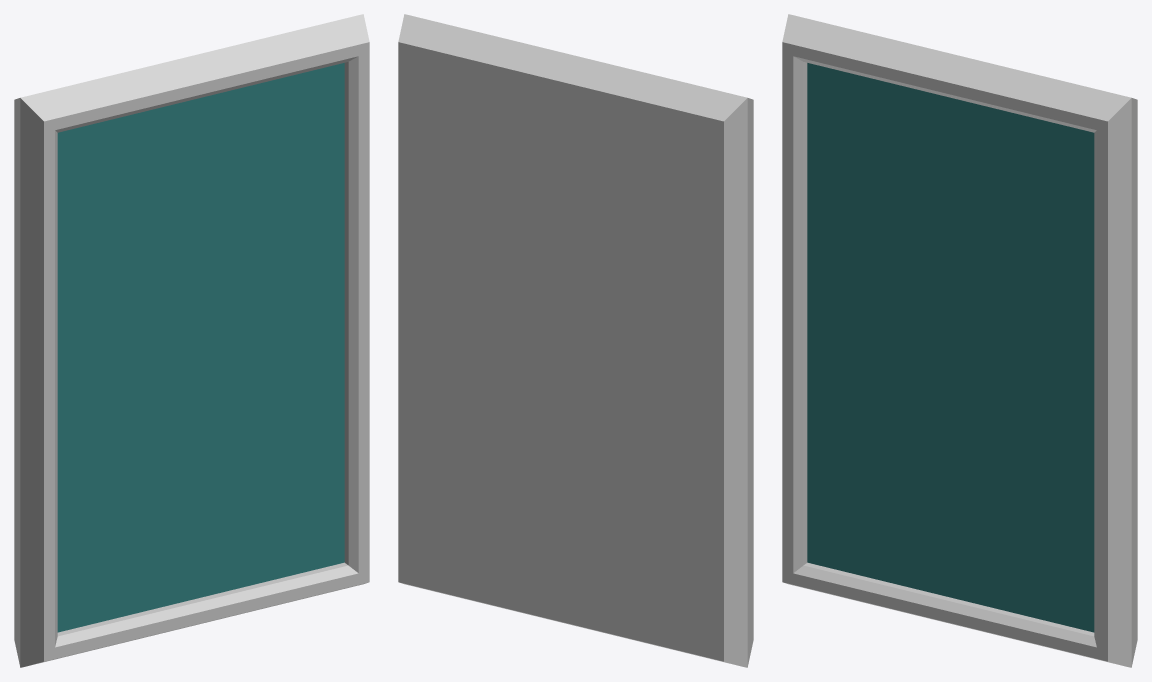
The model's file is Mirror B.glb.
3 renders of one model, left to right at view 1: azimuth 30°, elevation 25°; view 2: azimuth 150°, elevation 25°; view 3: azimuth 330°, elevation 25°, orthographic.
Visible parts, largest first — view 1: Mirror B; view 2: Mirror B; view 3: Mirror B.
Part boxes in pixels (<box>): Mirror B: <box>14,14,369,667</box>; Mirror B: <box>398,14,753,667</box>; Mirror B: <box>782,14,1137,667</box>.
Bounding box in the file's own units: 259 × 412 × 38.9.
